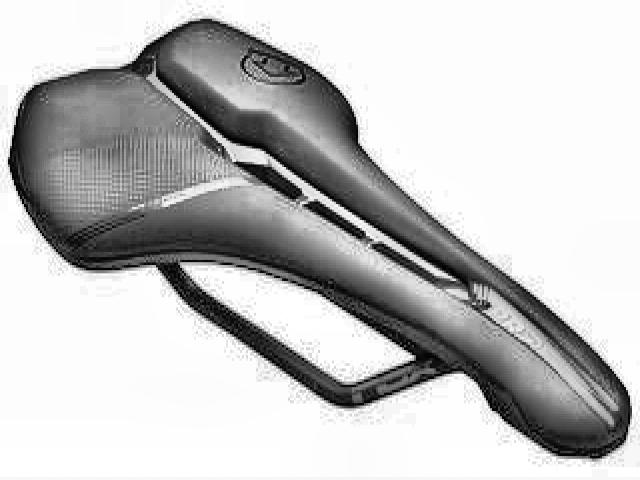saddle: (7, 16, 637, 465)
